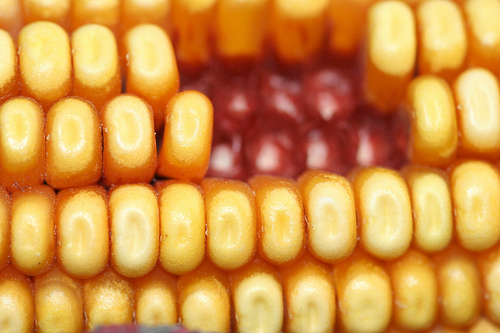corn: (0, 0, 498, 332)
